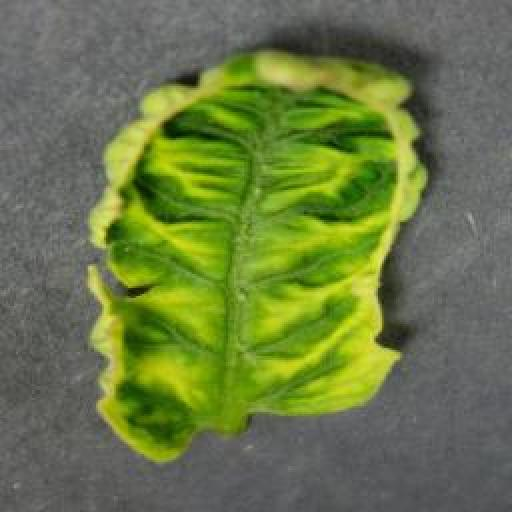disease_tomato: (83, 45, 427, 464)
